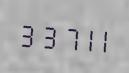one: (72, 20, 89, 54), (90, 21, 107, 55)
seven: (54, 19, 71, 53)
three: (18, 16, 35, 50), (36, 18, 53, 52)
